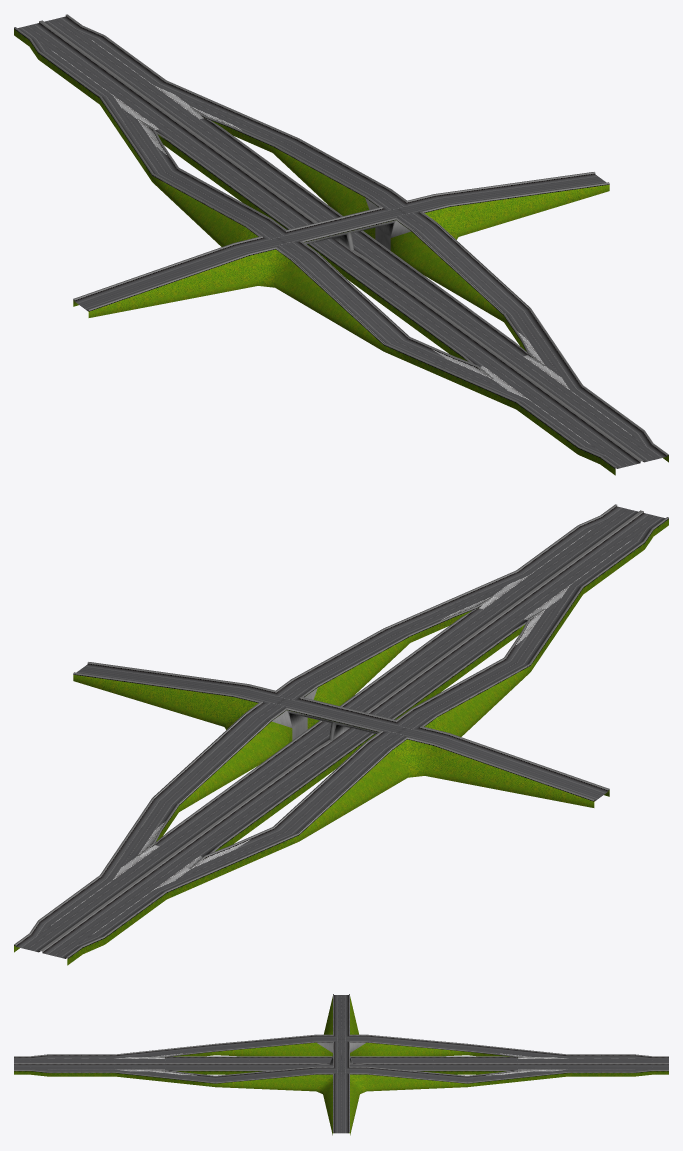
File: viaduct_1.fbx
3 renders of one model, top to bottom at view 1: azimuth 30°, elevation 25°; view 2: azimuth 150°, elevation 25°; view 3: azimuth 270°, elevation 25°, orthographic. The views are drawn at different scales.
Visible parts, largest first — view 1: viaduct_1; view 2: viaduct_1; view 3: viaduct_1.
Part boxes in pixels (left/top/right/bottom): viaduct_1: left=14, top=14, right=668, bottom=475; viaduct_1: left=14, top=504, right=668, bottom=965; viaduct_1: left=14, top=994, right=668, bottom=1135.
Size of the model in its own units: 19500 by 1563 by 39000.
